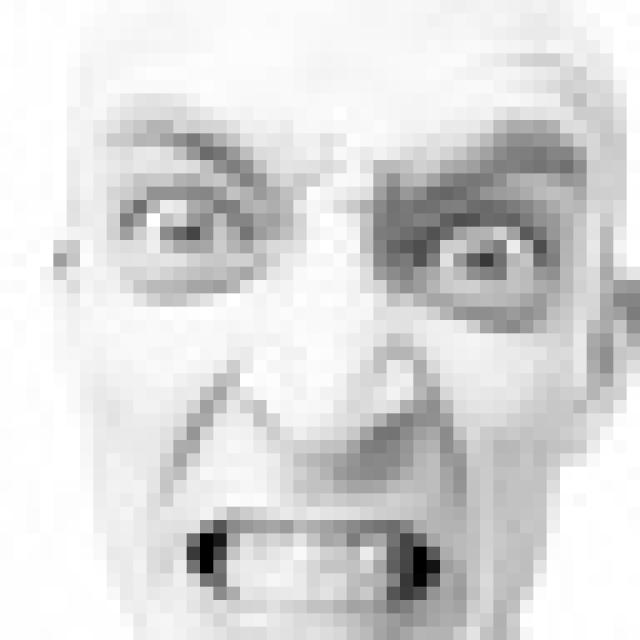angry: (106, 110, 595, 640)
